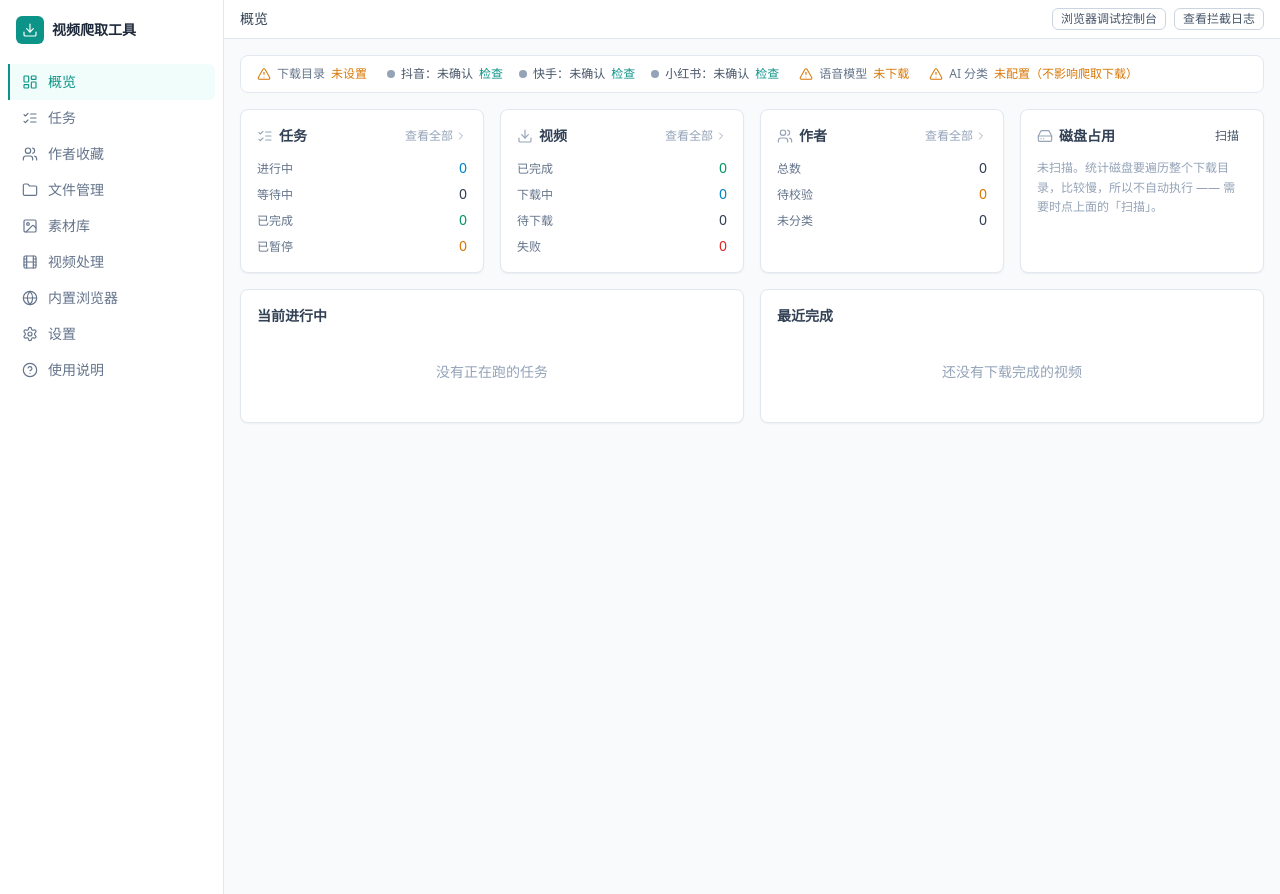
Test: App：使用说明 tab 与任务页引导条 › Tabs 里有「使用说明」，点击后渲染 HelpPanel 的内容
The width and height of the screenshot is (1280, 894).
Click the button "使用说明" at (112, 370), box [8,352,215,388]
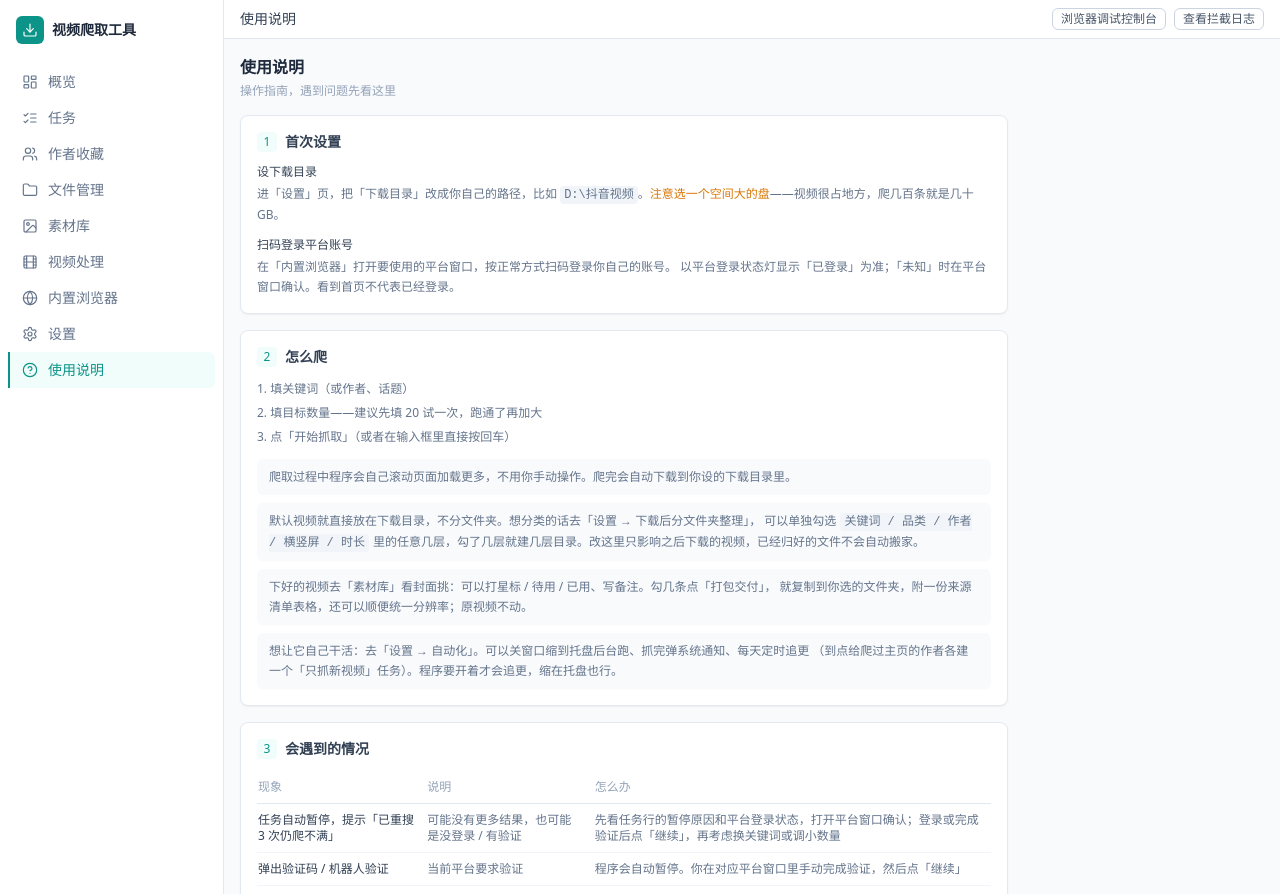
Check: the text "扫码登录" is shown, box [257,236,353,253]
